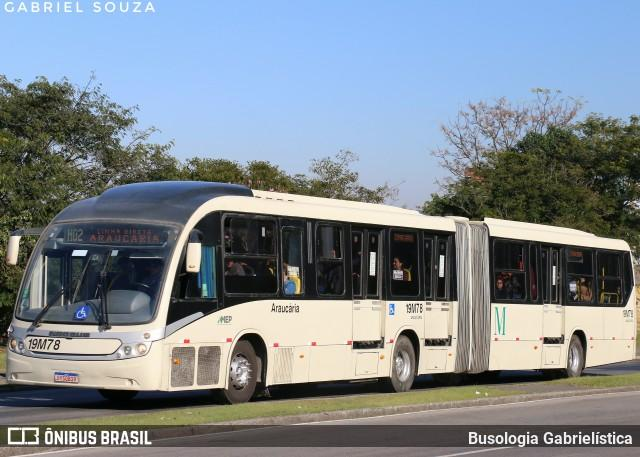ARAUCARIA: (88, 232, 161, 247)
